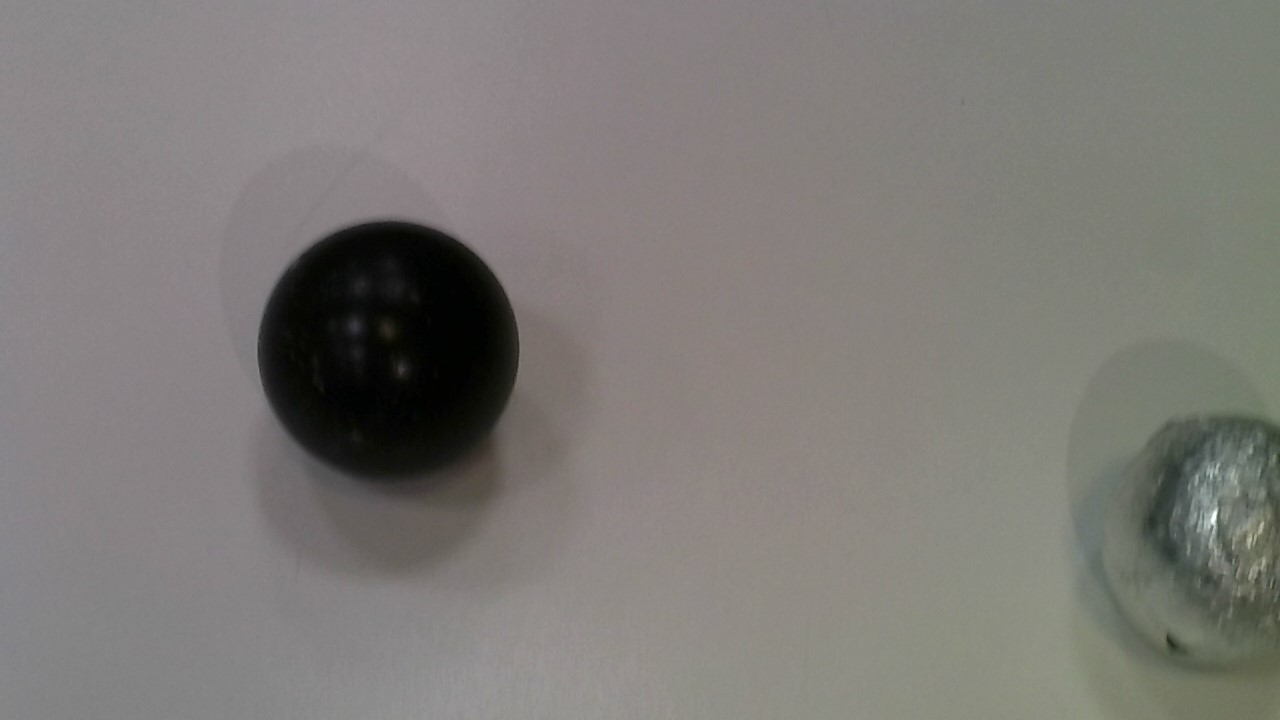black_ball: (246, 217, 531, 478)
silver_ball: (1092, 413, 1278, 686)
